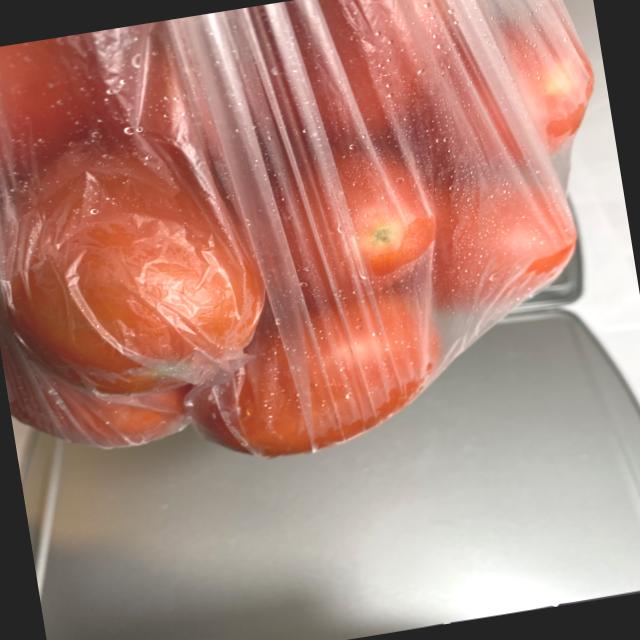tomato: (0, 0, 639, 502)
